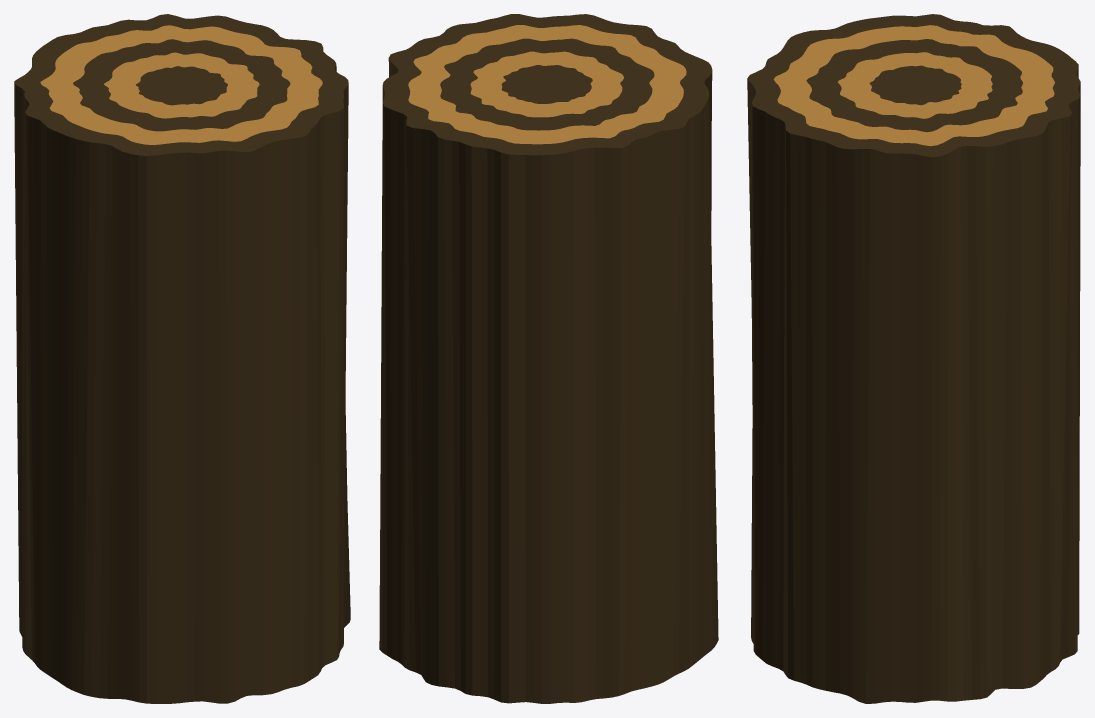
Rendered from LogWholeTemporary.fbx.
The picture shows the model from 3 angles, left to right: view 1: azimuth 30°, elevation 25°; view 2: azimuth 150°, elevation 25°; view 3: azimuth 270°, elevation 25°; orthographic projection.
Visible parts, largest first — view 1: LogWholeTemporary; view 2: LogWholeTemporary; view 3: LogWholeTemporary.
Part boxes in pixels (x1=…): LogWholeTemporary: x1=14, y1=14, x2=350, y2=703; LogWholeTemporary: x1=379, y1=14, x2=718, y2=703; LogWholeTemporary: x1=747, y1=14, x2=1080, y2=703.
Bounding box in the file's own units: 146 × 261 × 144.
